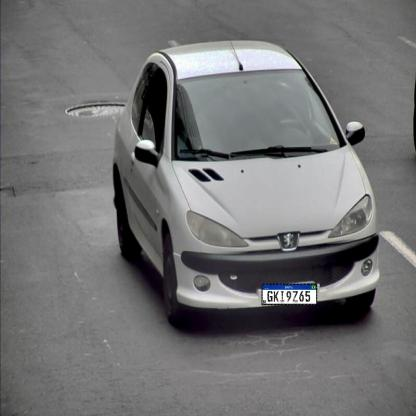PlacaM: (262, 284, 317, 305)
